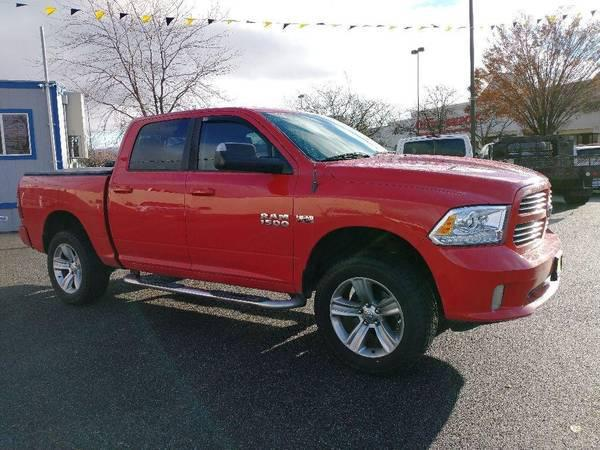Front_Bumper: (409, 231, 562, 329)
Front_Fender: (293, 165, 511, 295)
Front_Right_Door: (187, 172, 296, 296)
Front_Right_Window: (187, 115, 299, 175)
Front_Windshield: (256, 108, 391, 162)
Grille: (504, 180, 552, 252)
Hood: (319, 148, 544, 193)
Rear_Fender: (18, 173, 115, 264)
Rear_Right_Door: (108, 171, 190, 278)
Rear_Right_Window: (125, 116, 195, 172)
Right_Headlight: (425, 204, 510, 249)
Roof: (112, 106, 312, 170)
Wheel: (314, 249, 439, 369), (45, 227, 107, 299)
